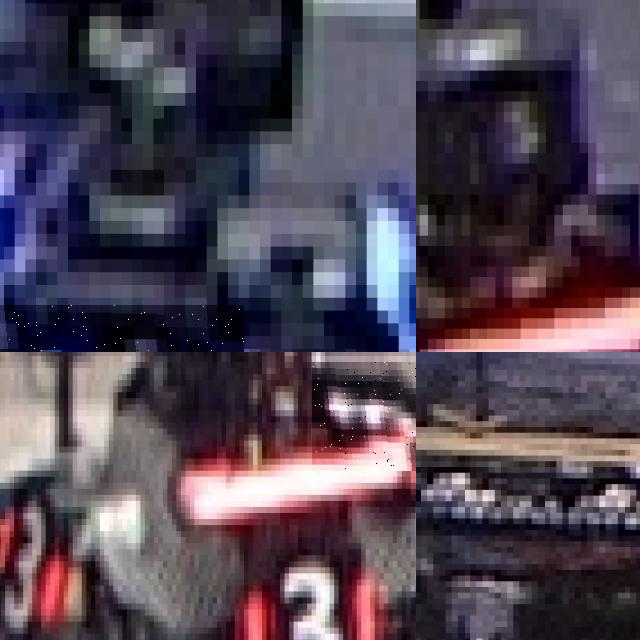B4: (0, 304, 244, 352)
R3: (239, 549, 388, 640), (311, 362, 416, 470), (0, 489, 68, 640)
